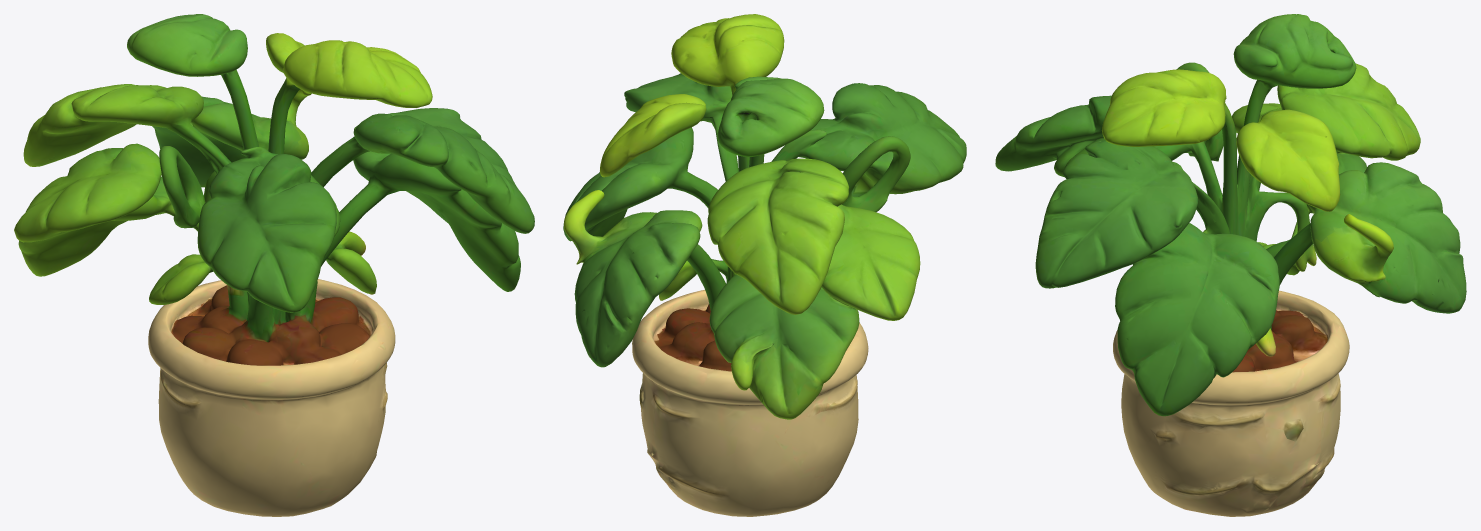
File: room-leafy-plant.glb
3 renders of one model, left to right at view 1: azimuth 30°, elevation 25°; view 2: azimuth 150°, elevation 25°; view 3: azimuth 270°, elevation 25°, orthographic. The views are drawn at different scales.
Parts seen in each view (by area): view 1: tripo_node_8f10b7ea-e07c-4ef2-88d7-bdf25afed1ca; view 2: tripo_node_8f10b7ea-e07c-4ef2-88d7-bdf25afed1ca; view 3: tripo_node_8f10b7ea-e07c-4ef2-88d7-bdf25afed1ca.
Part boxes in pixels (bbox=[...]): tripo_node_8f10b7ea-e07c-4ef2-88d7-bdf25afed1ca: bbox=[14, 14, 534, 516]; tripo_node_8f10b7ea-e07c-4ef2-88d7-bdf25afed1ca: bbox=[563, 14, 966, 516]; tripo_node_8f10b7ea-e07c-4ef2-88d7-bdf25afed1ca: bbox=[995, 14, 1466, 516].
Bounding box in the file's own units: 0.9349 × 0.9782 × 0.9544.
1 material, 1 textured.
